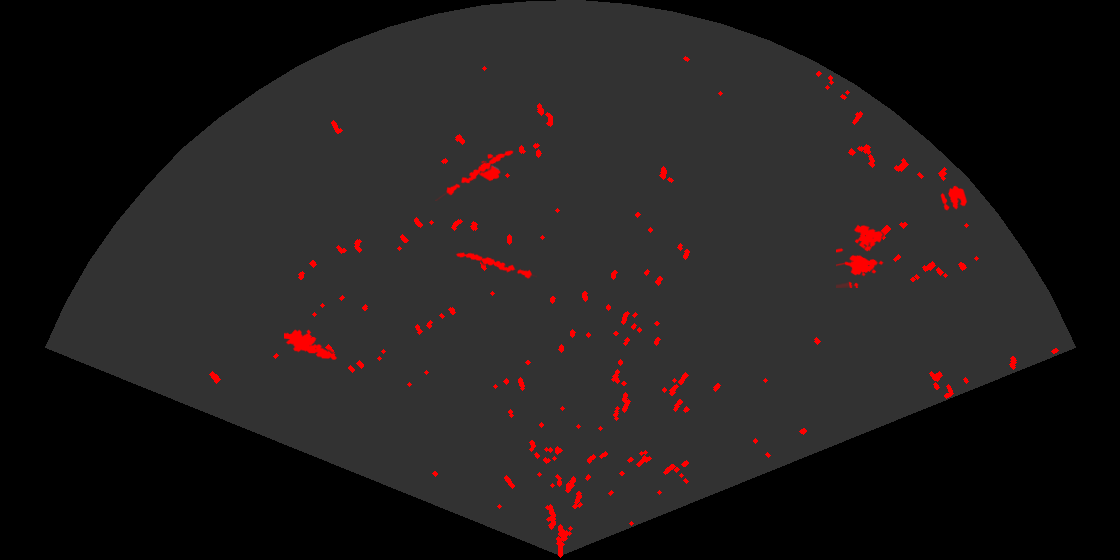ball: (939, 184, 969, 212), (476, 152, 502, 183)
cage: (836, 223, 885, 288)
chain: (435, 149, 515, 201), (454, 251, 537, 280)
frogman: (284, 328, 339, 361)
